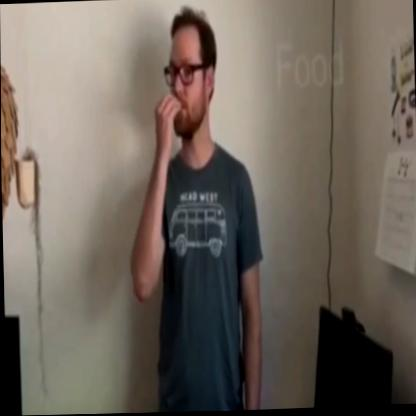Food: (144, 2, 225, 141)
